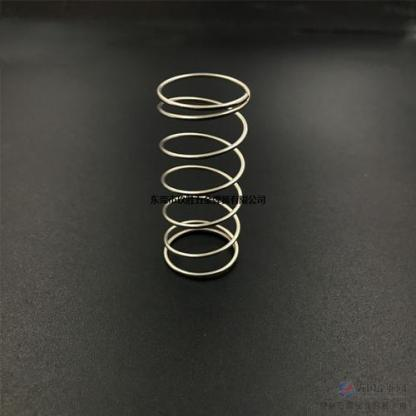FOD: (152, 69, 256, 282)
